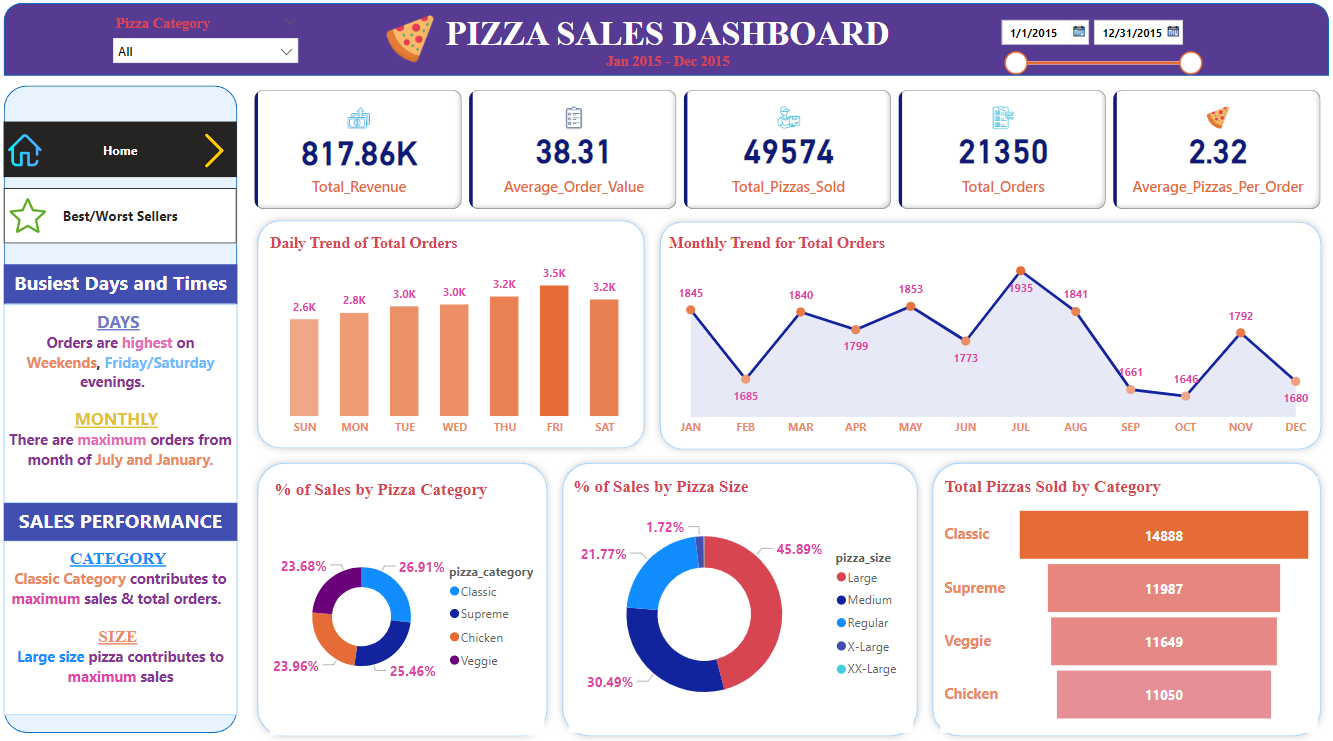

This screenshot's page, from the dashboard's own definition file:
{"tool":"powerbi","page":{"name":"Home","canvas":[1500,820],"ordinal":0},"visuals":[{"type":"cardVisual","fields":{"Data":["All_New_Measures.Total_Revenue","All_New_Measures.Average_Order_Value","All_New_Measures.Total_Pizzas_Sold","All_New_Measures.Total_Orders","All_New_Measures.Average_Pizzas_Per_Order"]},"box":[291.7,96.7,1185,141.7],"z":0},{"type":"shape","box":[20,5,1456.7,80],"z":1000},{"type":"textbox","box":[6.9,12.4,1486.7,72.8],"z":2000},{"type":"image","box":[435.6,12.4,63.2,64.6],"z":3000},{"type":"shape","box":[291.7,236.7,441.7,266.7],"z":4000},{"type":"shape","box":[733.3,238.3,743.3,266.7],"z":5000},{"type":"columnChart","title":"Daily Trend of Total Orders","fields":{"Category":["pizza_sales.Order Day"],"Y":["All_New_Measures.Total_Orders"]},"box":[313.3,260,406.7,225],"z":6000},{"type":"areaChart","title":"Monthly Trend for Total Orders","fields":{"Category":["pizza_sales.Order Month"],"Y":["All_New_Measures.Total_Orders"]},"box":[751.7,260,713.3,225],"z":7000},{"type":"shape","box":[291.7,503.3,335,316.7],"z":8000},{"type":"shape","box":[1033.3,503.3,443.3,316.7],"z":9000},{"type":"shape","box":[626.7,503.3,406.7,316.7],"z":10000},{"type":"donutChart","title":"% of Sales by Pizza Category","fields":{"Y":["All_New_Measures.Total_Revenue"],"Category":["pizza_sales.pizza_category"]},"box":[313.3,528.3,301.7,281.7],"z":11000},{"type":"donutChart","title":"% of Sales by Pizza Size","fields":{"Y":["All_New_Measures.Total_Revenue"],"Category":["pizza_sales.pizza_size"]},"box":[641.7,526.7,378.3,281.7],"z":12000},{"type":"funnel","title":"Total Pizzas Sold by Category","fields":{"Category":["pizza_sales.pizza_category"],"Y":["All_New_Measures.Total_Pizzas_Sold"]},"box":[1050,526.7,415,281.7],"z":13000},{"type":"shape","box":[20,96.7,256.7,711.7],"z":14000},{"type":"textbox","box":[20,293.3,256.7,43.3],"z":15000},{"type":"textbox","box":[20,596.7,256.7,191.7],"z":16000},{"type":"textbox","box":[20,555,256.7,41.7],"z":17000},{"type":"textbox","box":[20,336.7,256.7,218.3],"z":18000},{"type":"slicer","title":"O","fields":{"Values":["pizza_sales.order_date"]},"box":[1105,13.3,241.7,73.3],"z":19000},{"type":"pageNavigator","box":[20,136.7,256.7,61.7],"z":20000},{"type":"image","box":[228.3,133.3,48.3,68.3],"z":21000},{"type":"image","box":[20,140,46.7,55],"z":22000},{"type":"pageNavigator","box":[20,208.3,256.7,61.7],"z":23000},{"type":"image","box":[20,215,53.3,50],"z":24000},{"type":"slicer","fields":{"Values":["pizza_sales.pizza_category"]},"box":[130,13.3,223.3,68.3],"z":25000}]}

Visuals, with their boxes in screenshot pixels (x1, y1, x2, y2), scaled from the page's 1500x820 canvas onto the 1333x741 screenshot:
cardVisual - All_New_Measures.Total_Revenue x All_New_Measures.Average_Order_Value: 259/87/1312/215
shape: 18/5/1312/77
textbox: 6/11/1327/77
image: 387/11/443/70
shape: 259/214/652/455
shape: 652/215/1312/456
"Daily Trend of Total Orders" columnChart: 278/235/640/438
"Monthly Trend for Total Orders" areaChart: 668/235/1302/438
shape: 259/455/557/740
shape: 918/455/1312/740
shape: 557/455/918/740
"% of Sales by Pizza Category" donutChart: 278/477/547/732
"% of Sales by Pizza Size" donutChart: 570/476/906/731
"Total Pizzas Sold by Category" funnel: 933/476/1302/731
shape: 18/87/246/731
textbox: 18/265/246/304
textbox: 18/539/246/712
textbox: 18/502/246/539
textbox: 18/304/246/502
"O" slicer: 982/12/1197/78
pageNavigator: 18/124/246/179
image: 203/120/246/182
image: 18/127/59/176
pageNavigator: 18/188/246/244
image: 18/194/65/239
slicer - pizza_sales.pizza_category: 116/12/314/74
